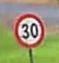limite 30: (12, 11, 46, 46)
